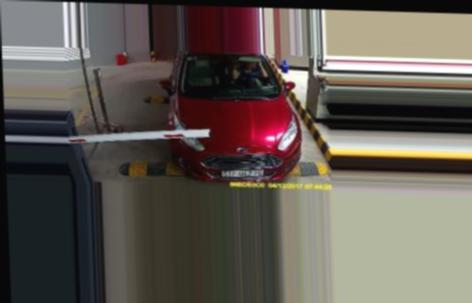License_Plate: (218, 164, 269, 182)
